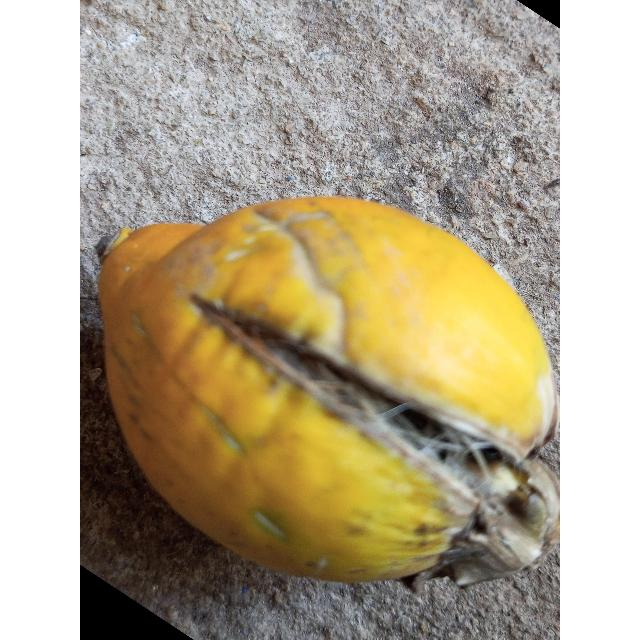damaged: (98, 196, 560, 593)
